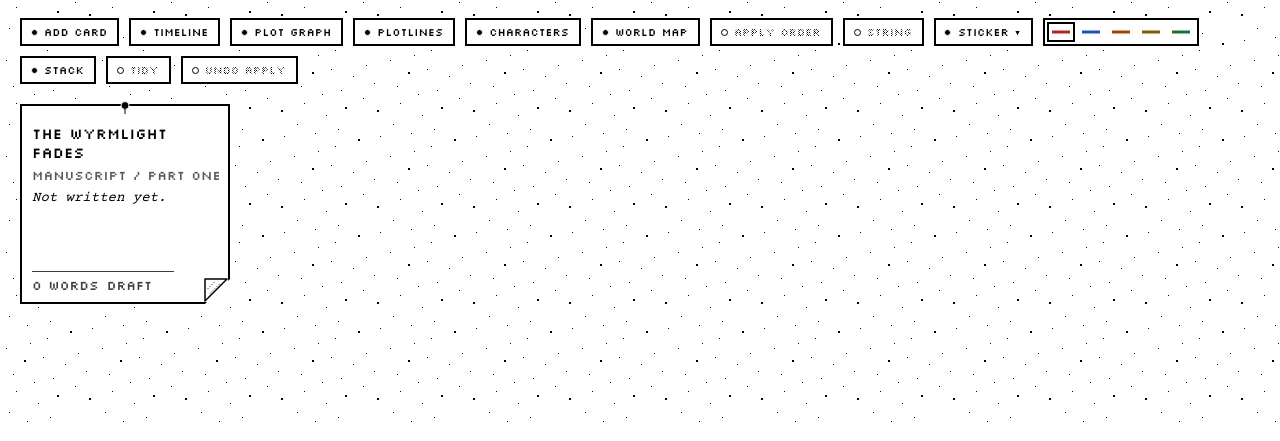
adding a card › offers the entries not yet on the board, and puts one on
The width and height of the screenshot is (1280, 441).
Click the button with class "board-tool" showing "Add Card" at (70, 32), box [20,18,119,46]
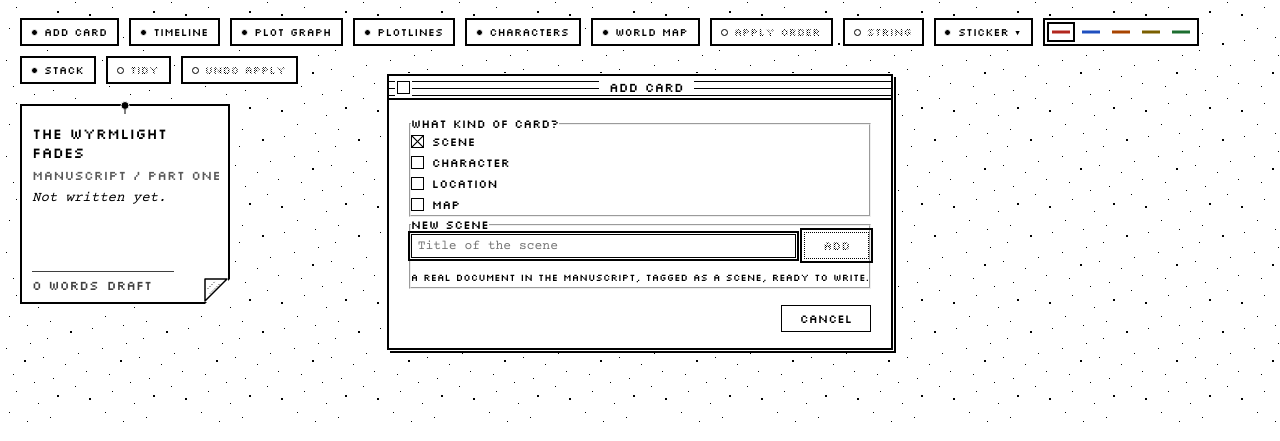
expect the element with class "dialog" is shown: met, box [387,74,893,350]
Click the radio button labelled "Location" at (465, 184), box [411,173,869,194]
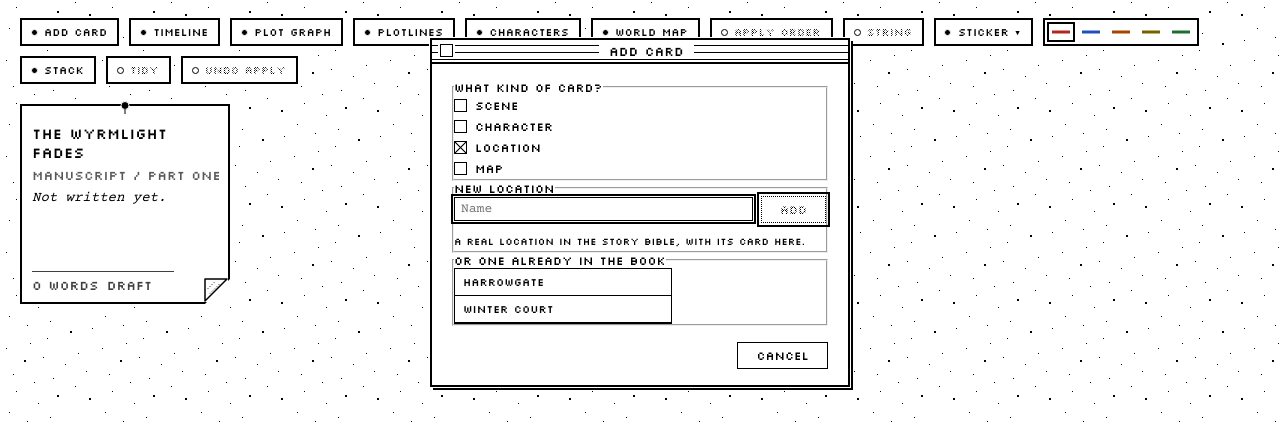
expect the button "Harrowgate" is shown: met
Click the button "Harrowgate" at (563, 282), box [455,268,671,296]
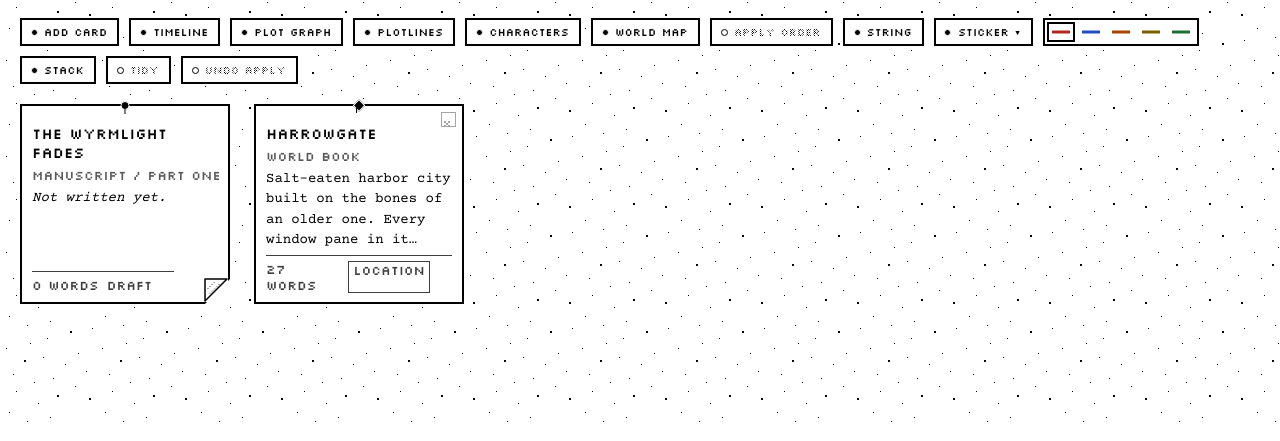
expect the element that starts with "Harrowgate" is shown: met, box [254,104,464,304]
